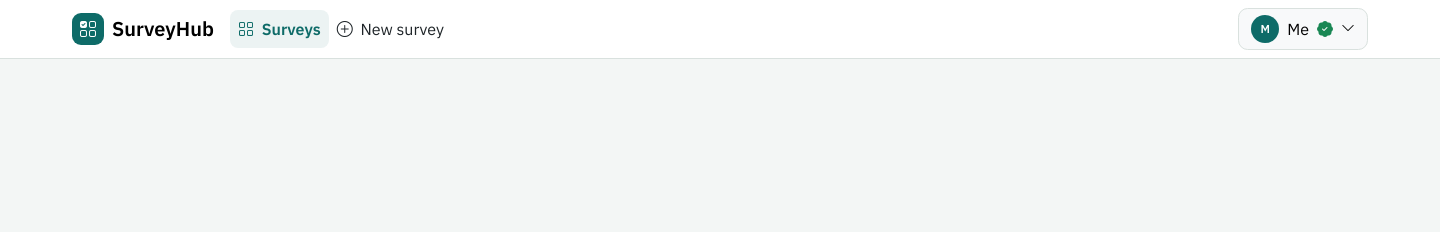
Test case: AppNavbar email verification tick › shows the verified tick for a verified email
Expected: the number of pictures named "Email verified" is 1, [1317,17,1333,41]
Click the button "M Me": coordinates (1303, 29) [1238,8,1368,50]
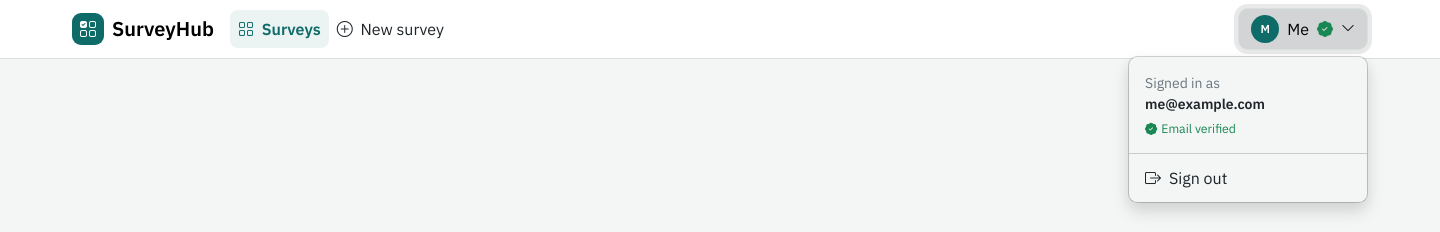
Expected: the element with test id "email-verified" reads "Email verified", [1161,120,1236,136]
